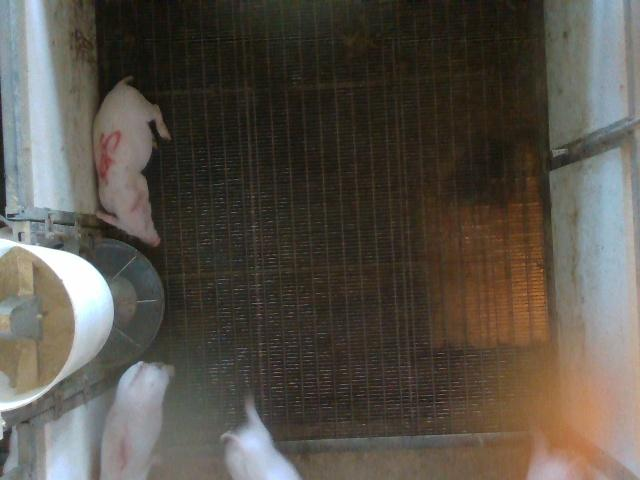pig-1: (100, 361, 174, 478)
pig-5: (94, 76, 171, 246)
